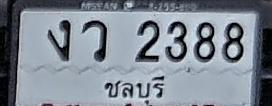2: (136, 20, 159, 62)
3: (165, 20, 187, 62)
8: (194, 21, 215, 62), (222, 22, 243, 62)
A07: (48, 19, 70, 61)
A37: (82, 19, 108, 61)
CBI: (98, 72, 164, 106)
